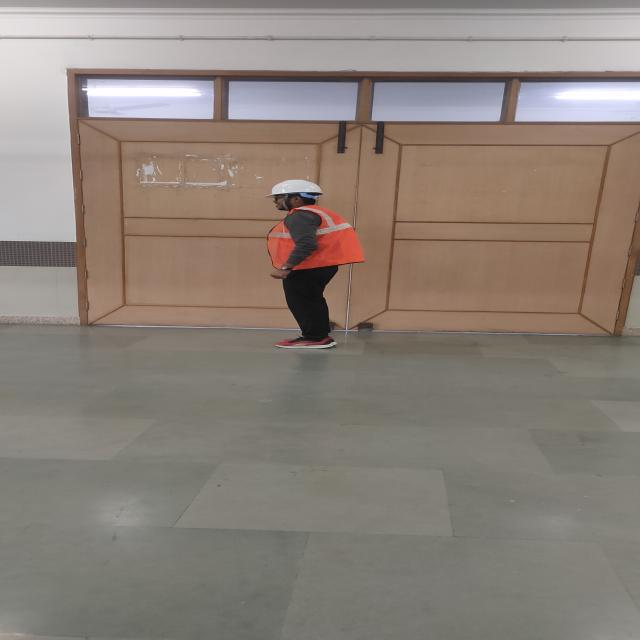safe: (267, 180, 364, 348)
